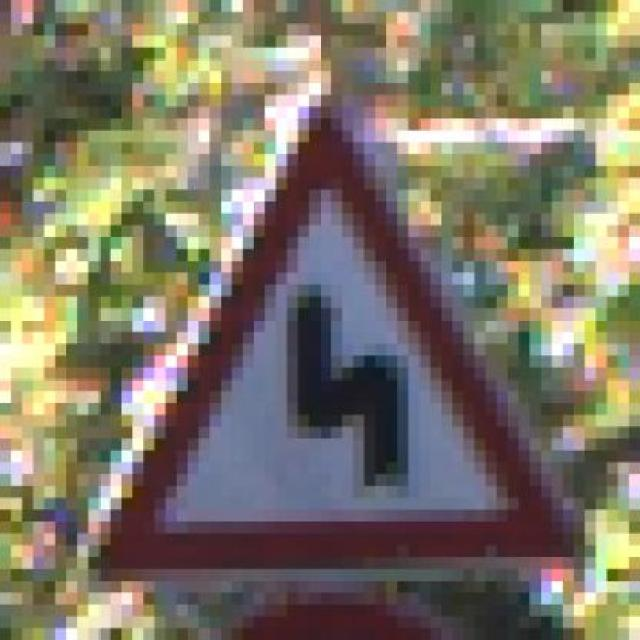Left Zig Zag Traffic: (66, 107, 596, 581)
